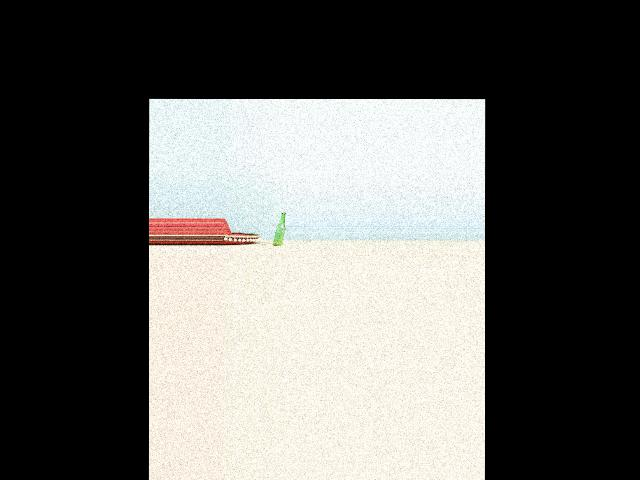beer: (273, 211, 285, 246)
